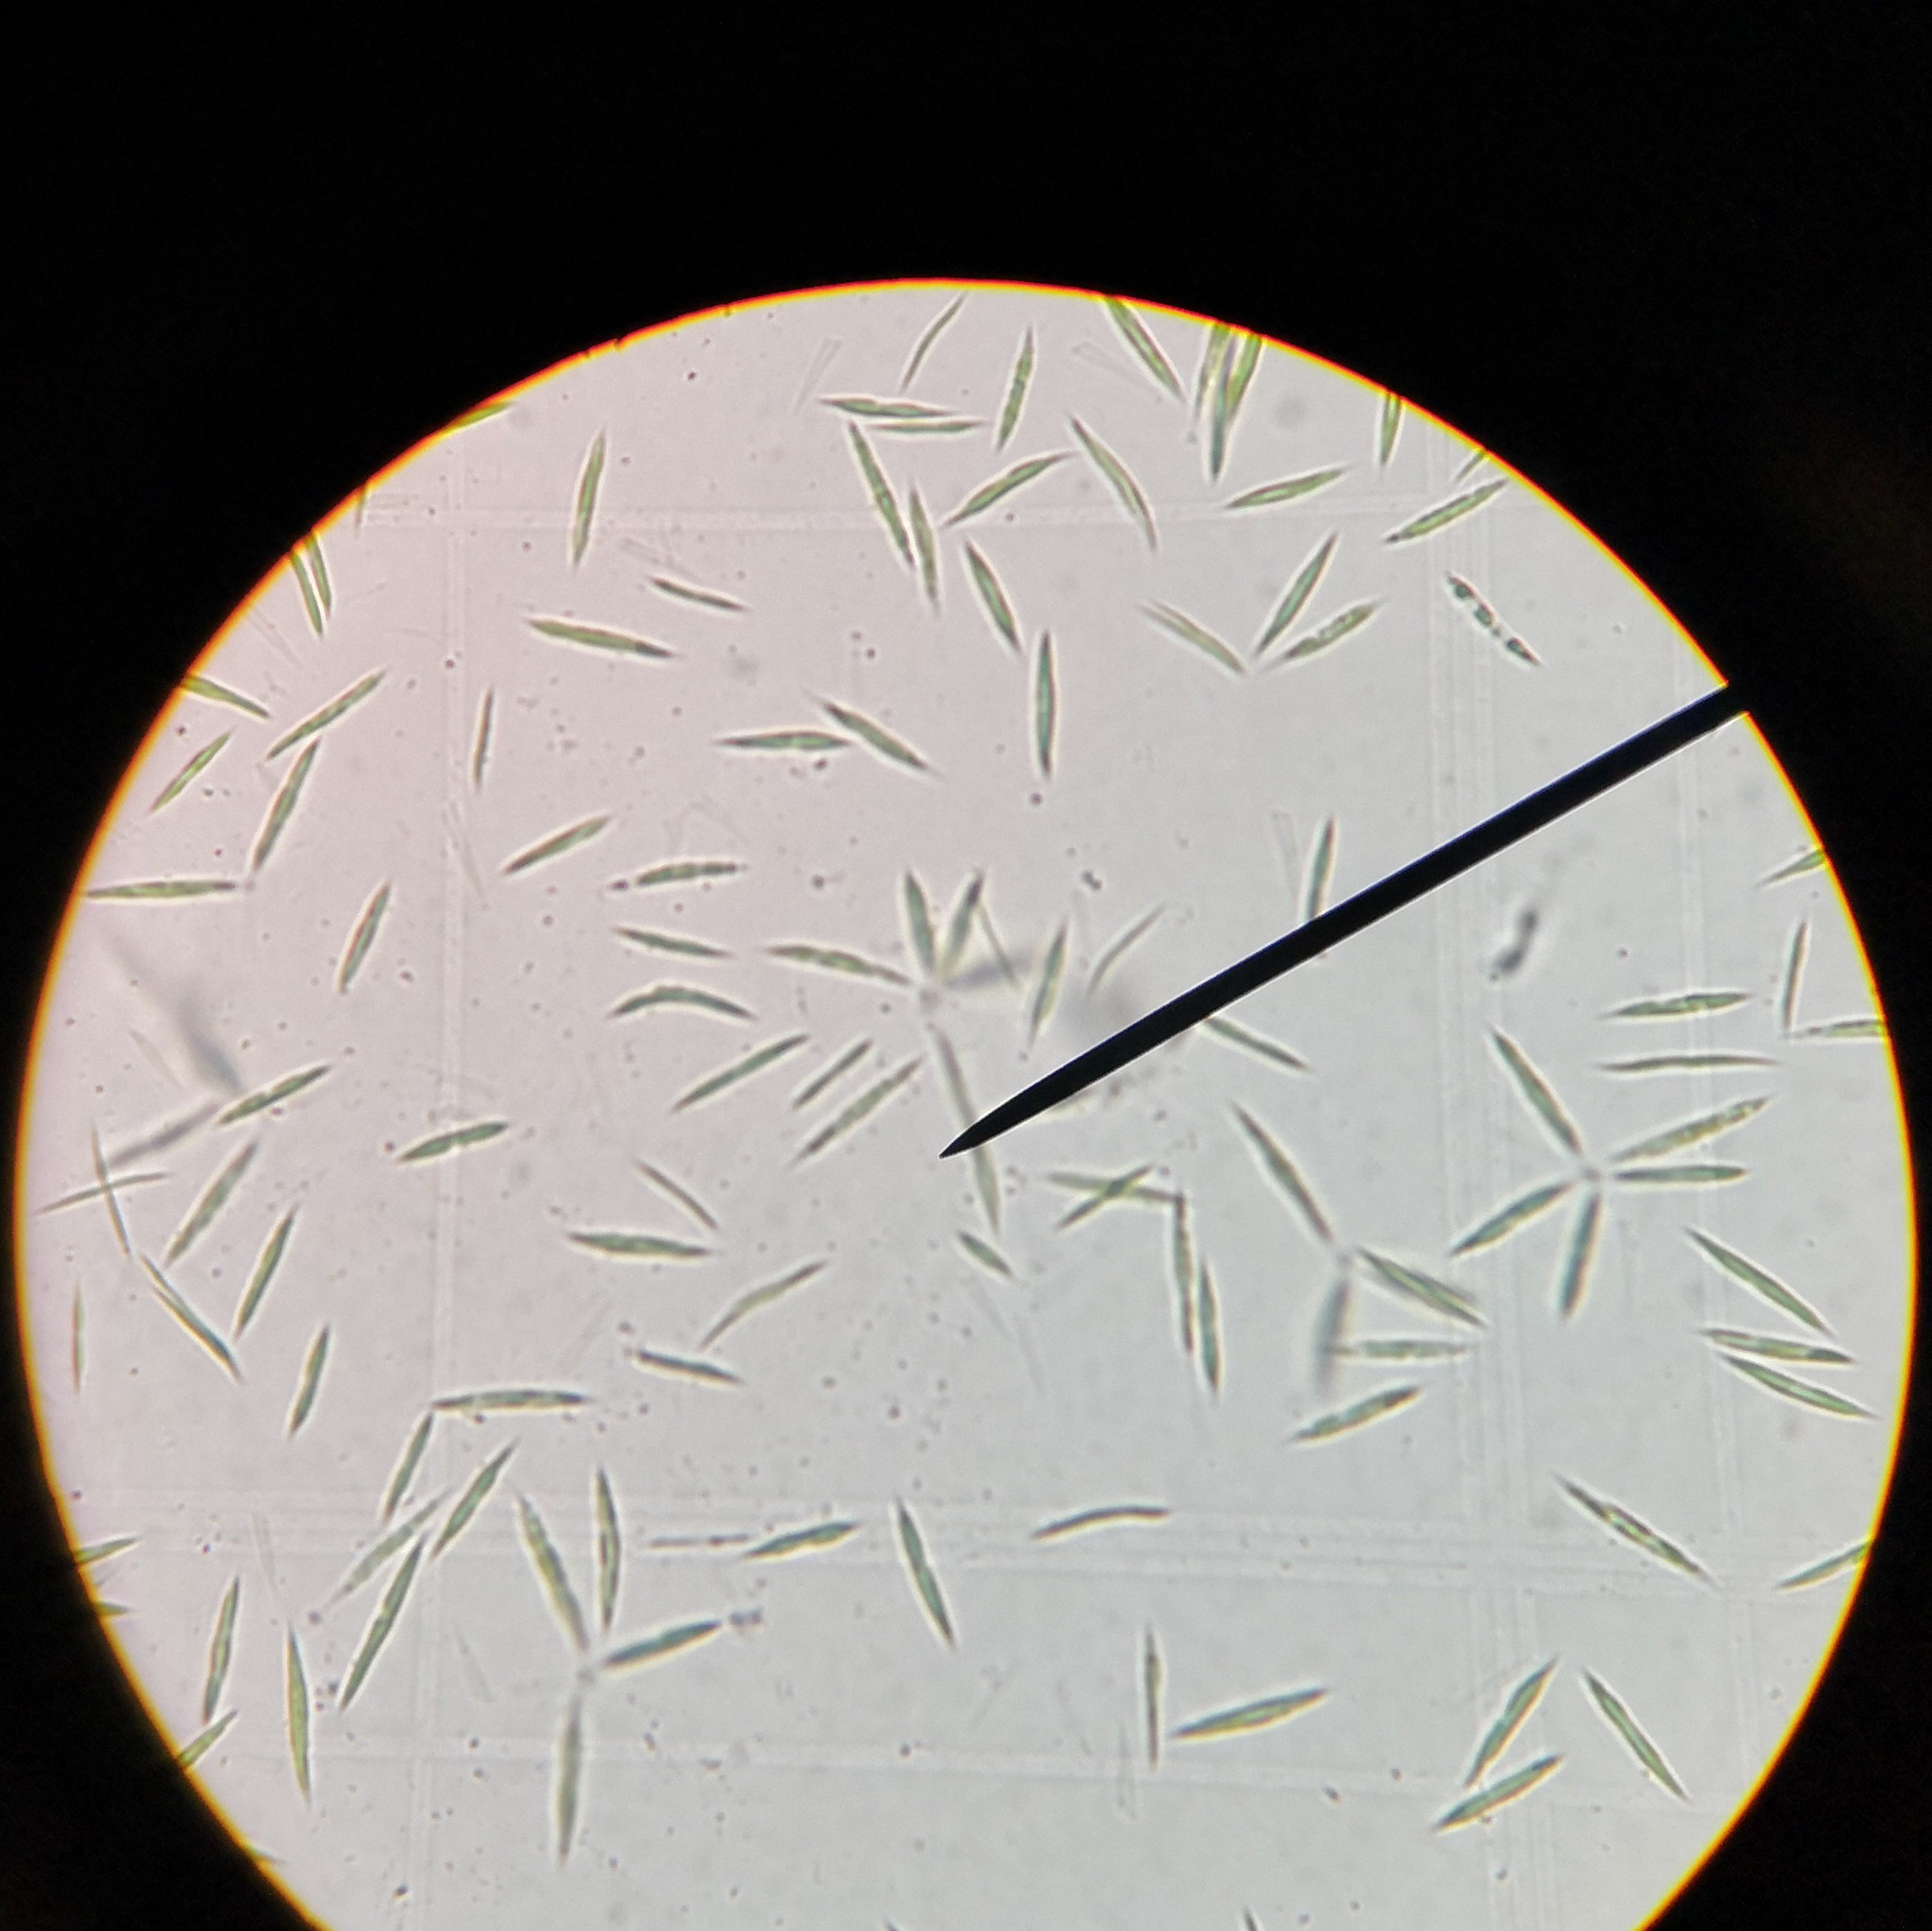Microalgae: (1541, 1462, 1707, 1586), (1215, 1105, 1330, 1234), (341, 1540, 428, 1703), (1575, 1675, 1691, 1795), (927, 1036, 1001, 1218), (1067, 403, 1162, 545), (879, 1500, 964, 1653), (1691, 1227, 1824, 1324), (315, 1492, 437, 1597), (168, 1126, 264, 1259), (508, 1503, 589, 1655), (1621, 1079, 1787, 1149), (798, 1059, 916, 1158), (840, 426, 916, 580), (264, 667, 380, 764), (1249, 530, 1339, 656), (1123, 594, 1251, 683), (1007, 916, 1085, 1059), (133, 1263, 235, 1370), (232, 1185, 304, 1333), (816, 691, 938, 778), (1445, 1174, 1568, 1259), (701, 1256, 824, 1339), (520, 603, 674, 668), (1490, 1043, 1578, 1156), (1164, 1687, 1334, 1745), (557, 1220, 717, 1280), (1366, 472, 1502, 541), (1721, 1358, 1882, 1416), (932, 447, 1058, 522), (1472, 1662, 1560, 1767), (1449, 571, 1543, 667), (1019, 1491, 1168, 1551), (193, 1570, 253, 1719), (674, 1036, 810, 1102), (1431, 1756, 1557, 1827), (1364, 1256, 1486, 1328), (1283, 1379, 1422, 1441), (1010, 635, 1070, 778), (1251, 605, 1378, 672), (211, 1056, 336, 1123), (253, 743, 326, 856), (439, 1446, 510, 1560), (1104, 295, 1185, 393), (766, 939, 915, 992), (593, 1613, 727, 1671), (885, 295, 962, 394), (557, 426, 610, 569), (495, 812, 614, 875), (775, 1040, 862, 1126), (80, 1119, 136, 1252), (138, 730, 234, 808), (368, 1406, 430, 1524), (605, 985, 757, 1033), (1208, 462, 1353, 511), (329, 879, 387, 996), (985, 329, 1040, 453), (957, 539, 1019, 647), (732, 1515, 869, 1563), (644, 564, 761, 617), (1203, 1011, 1311, 1068), (626, 1158, 715, 1227), (1592, 987, 1764, 1022), (453, 674, 504, 790), (1067, 1165, 1155, 1233), (37, 1167, 165, 1213), (83, 870, 248, 905), (893, 879, 943, 996), (1125, 1625, 1166, 1767), (281, 1323, 329, 1443), (1764, 1533, 1868, 1588), (602, 925, 734, 967), (1700, 1332, 1859, 1367), (1615, 1148, 1743, 1192), (1164, 1190, 1198, 1355), (1093, 907, 1168, 981), (280, 1636, 318, 1775), (1560, 1190, 1603, 1317), (386, 1114, 506, 1158), (706, 723, 858, 757), (621, 1346, 741, 1388), (610, 861, 754, 897), (1744, 835, 1829, 891), (809, 380, 948, 414), (173, 672, 265, 720), (60, 1278, 96, 1397), (1185, 318, 1223, 426), (1778, 918, 1812, 1033), (280, 555, 326, 637), (1196, 1248, 1221, 1399), (1592, 1056, 1783, 1075), (1300, 813, 1334, 921), (957, 1222, 1017, 1282), (1362, 391, 1399, 479), (1806, 1013, 1893, 1050), (947, 870, 977, 973), (1237, 338, 1267, 435), (430, 1393, 591, 1411), (69, 1533, 138, 1570), (1332, 1344, 1463, 1363), (867, 414, 982, 435), (308, 532, 336, 607), (88, 1593, 140, 1620)
